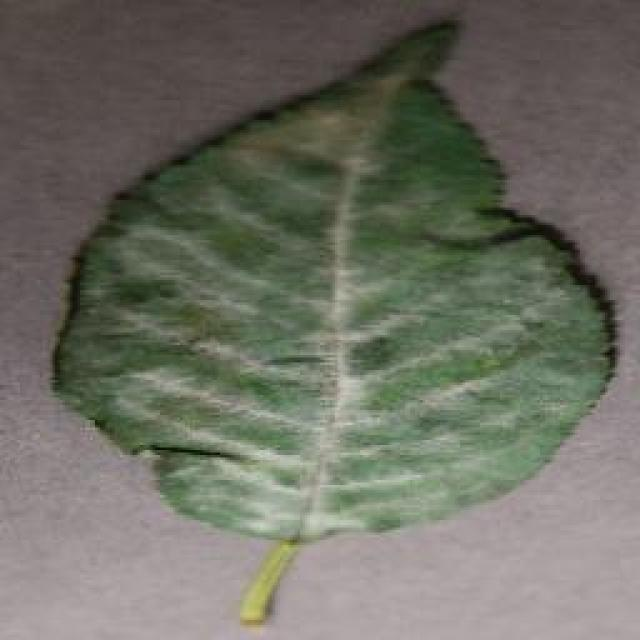Cherry___Powdery_mildew: (37, 5, 625, 637)
